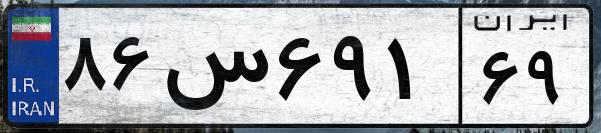1: (385, 28, 445, 110)
6: (270, 28, 330, 110), (475, 38, 525, 113), (110, 28, 158, 98)
8: (57, 26, 110, 100)
9: (330, 28, 385, 110), (525, 38, 570, 115)
س: (158, 20, 270, 120)
